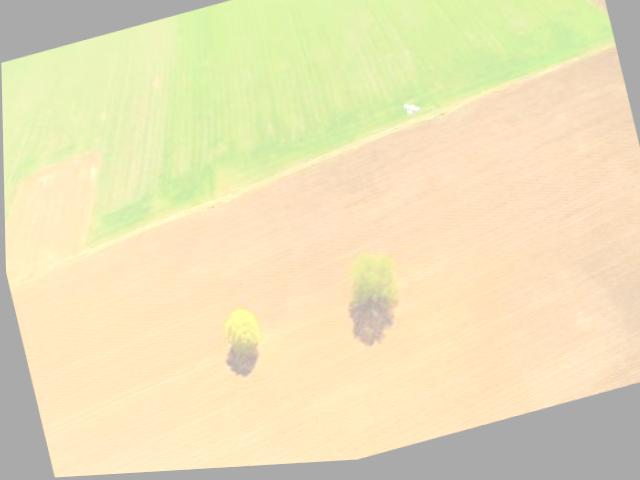uav: (398, 98, 425, 126)
